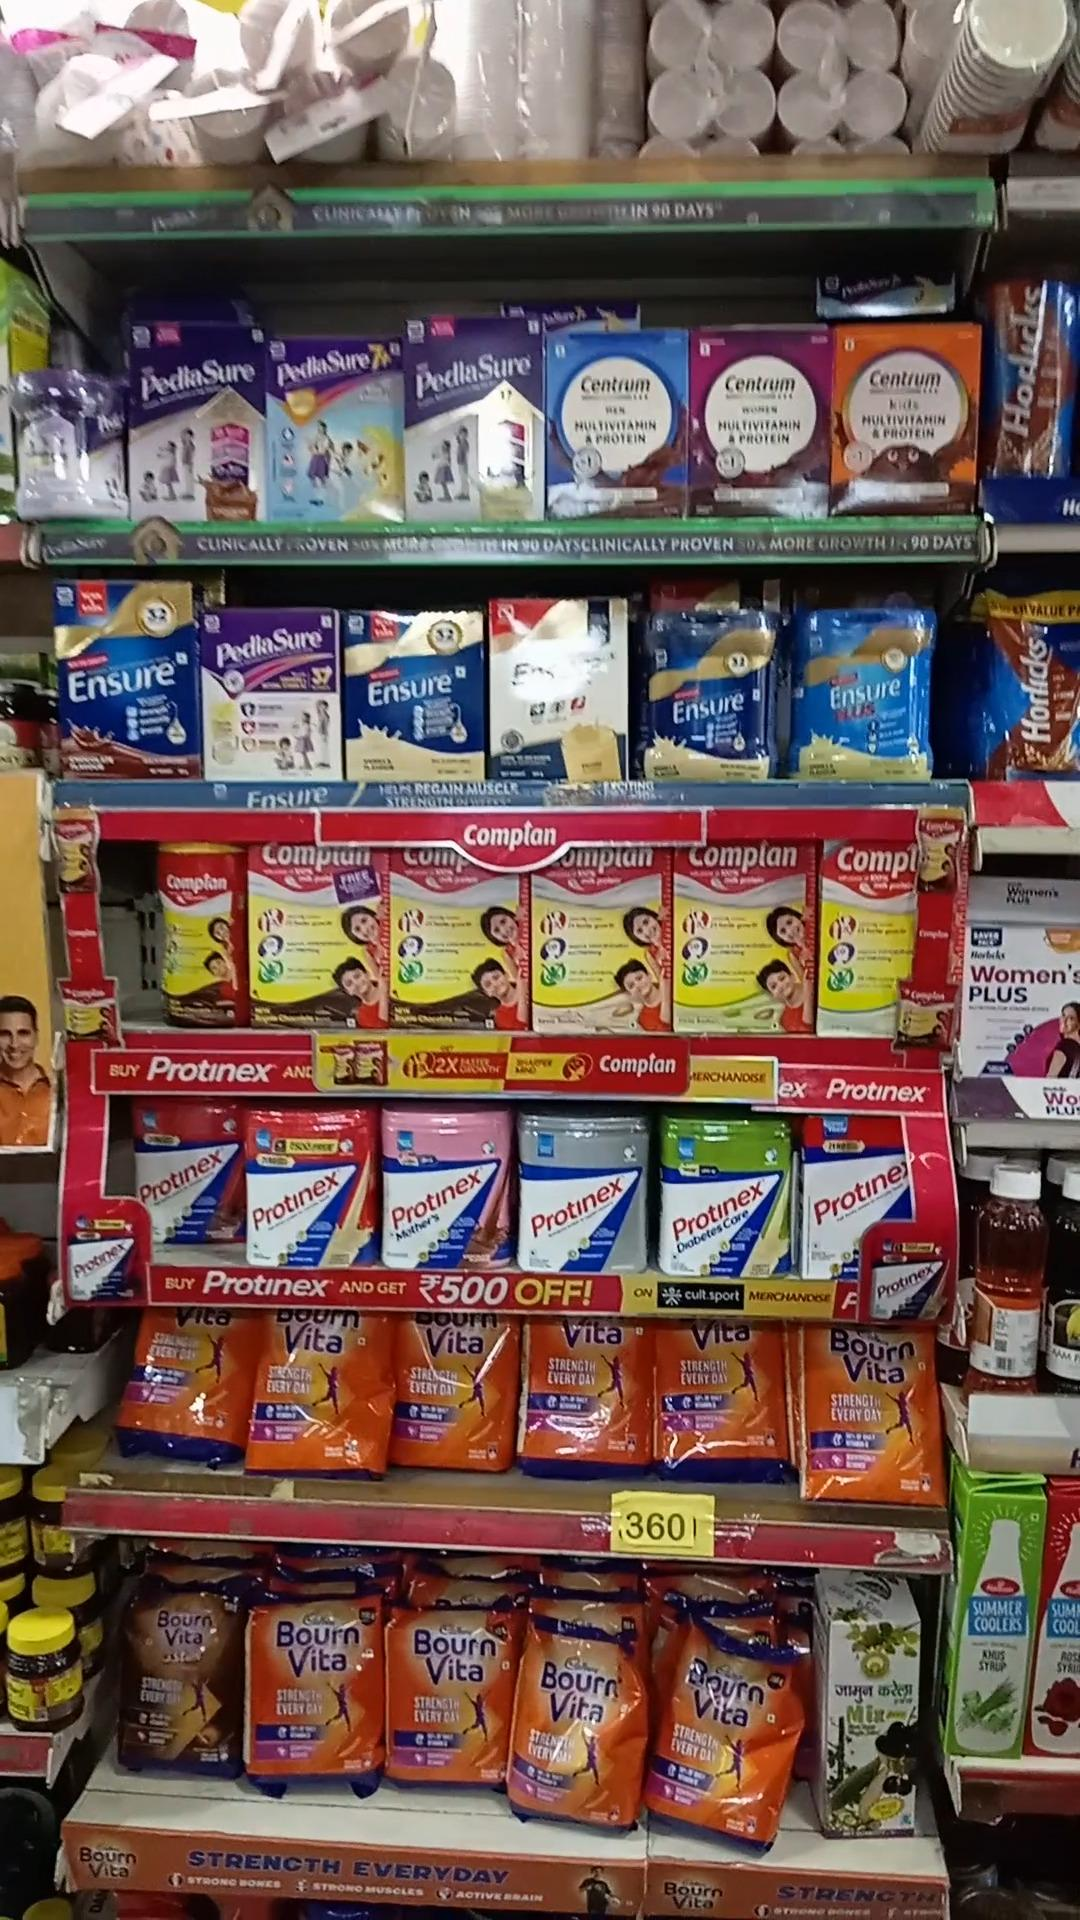BOURN_VITA_750_G_POUCH: (659, 1625, 787, 1840), (517, 1618, 638, 1830), (251, 1589, 378, 1788), (803, 1327, 938, 1510), (251, 1305, 384, 1477), (385, 1602, 498, 1795), (658, 1319, 789, 1482), (520, 1319, 650, 1478), (397, 1309, 510, 1465), (125, 1305, 236, 1458)
BOURN_VITA_FIVE_STAR_MAGIC_750_G_POUCH: (121, 1582, 237, 1778)
COMPLAN_CHOCOLATE_500_GMS_JAR: (157, 847, 245, 1030)
COMPLAN_CHOCOLATE_500_GMS_PACK: (392, 849, 529, 1031), (252, 847, 389, 1027)
COMPLAN_CREAMY_CLASSIC_500_G_PACK: (822, 841, 895, 1036)
COMPLAN_KESAR_BADAM_500_GMS_PACK: (534, 864, 673, 1034)
COMPLAN_PISTA_BADAM_500_GMS_PACK: (676, 844, 816, 1031)
ENSURE_VANILLA_400_G_PACK: (491, 601, 628, 779), (347, 612, 483, 779)
PEDIASURE_VANILLA_500_G_PACK: (409, 316, 542, 521), (129, 320, 258, 521)
PROTINEX_CHOCOLATE_400_G_JAR: (135, 1097, 243, 1245)
PROTINEX_ORIGINAL_400_G_JAR: (517, 1113, 646, 1276)
PROTINEX_VANILLA_400_G_JAR: (247, 1109, 372, 1269)
